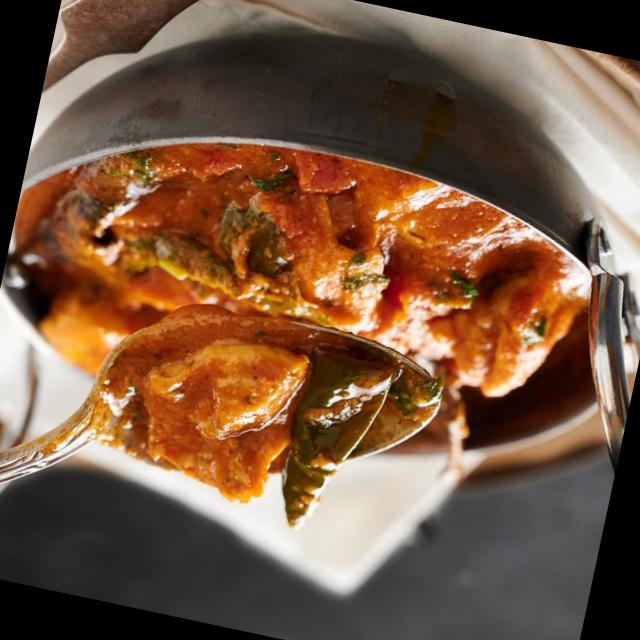chicken: (0, 103, 611, 530)
